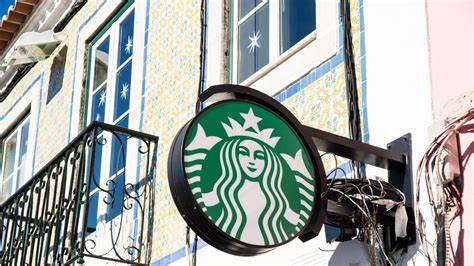starbucks Originale: (178, 95, 322, 254)
